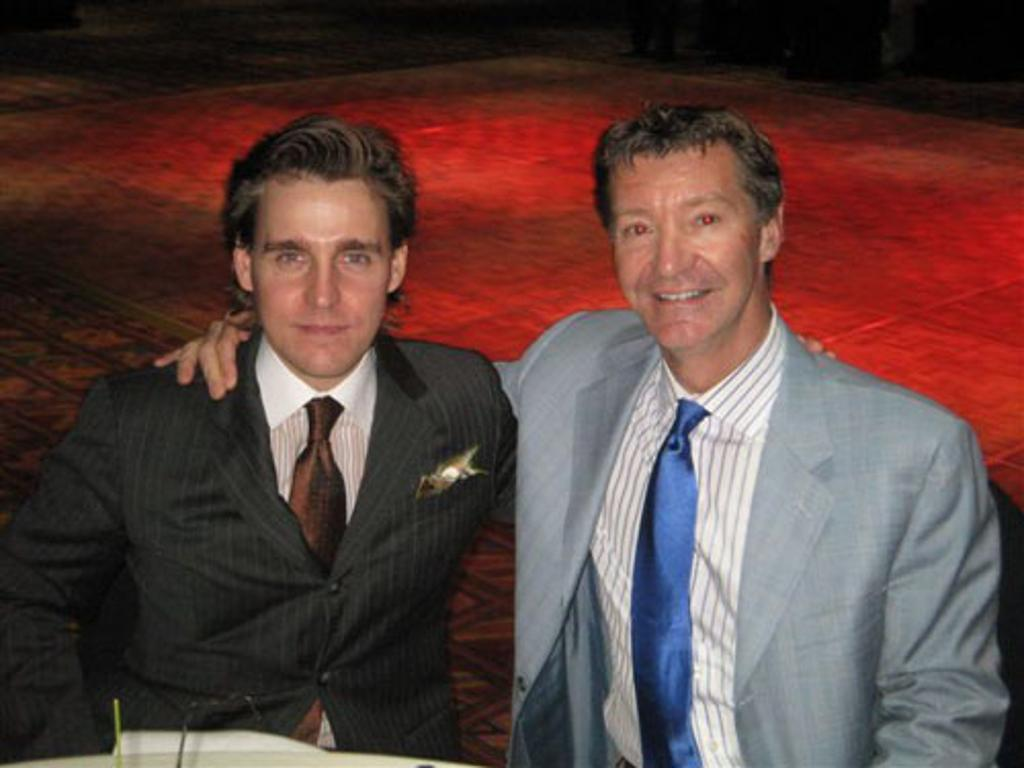face: (256, 166, 396, 380), (612, 146, 762, 342)
